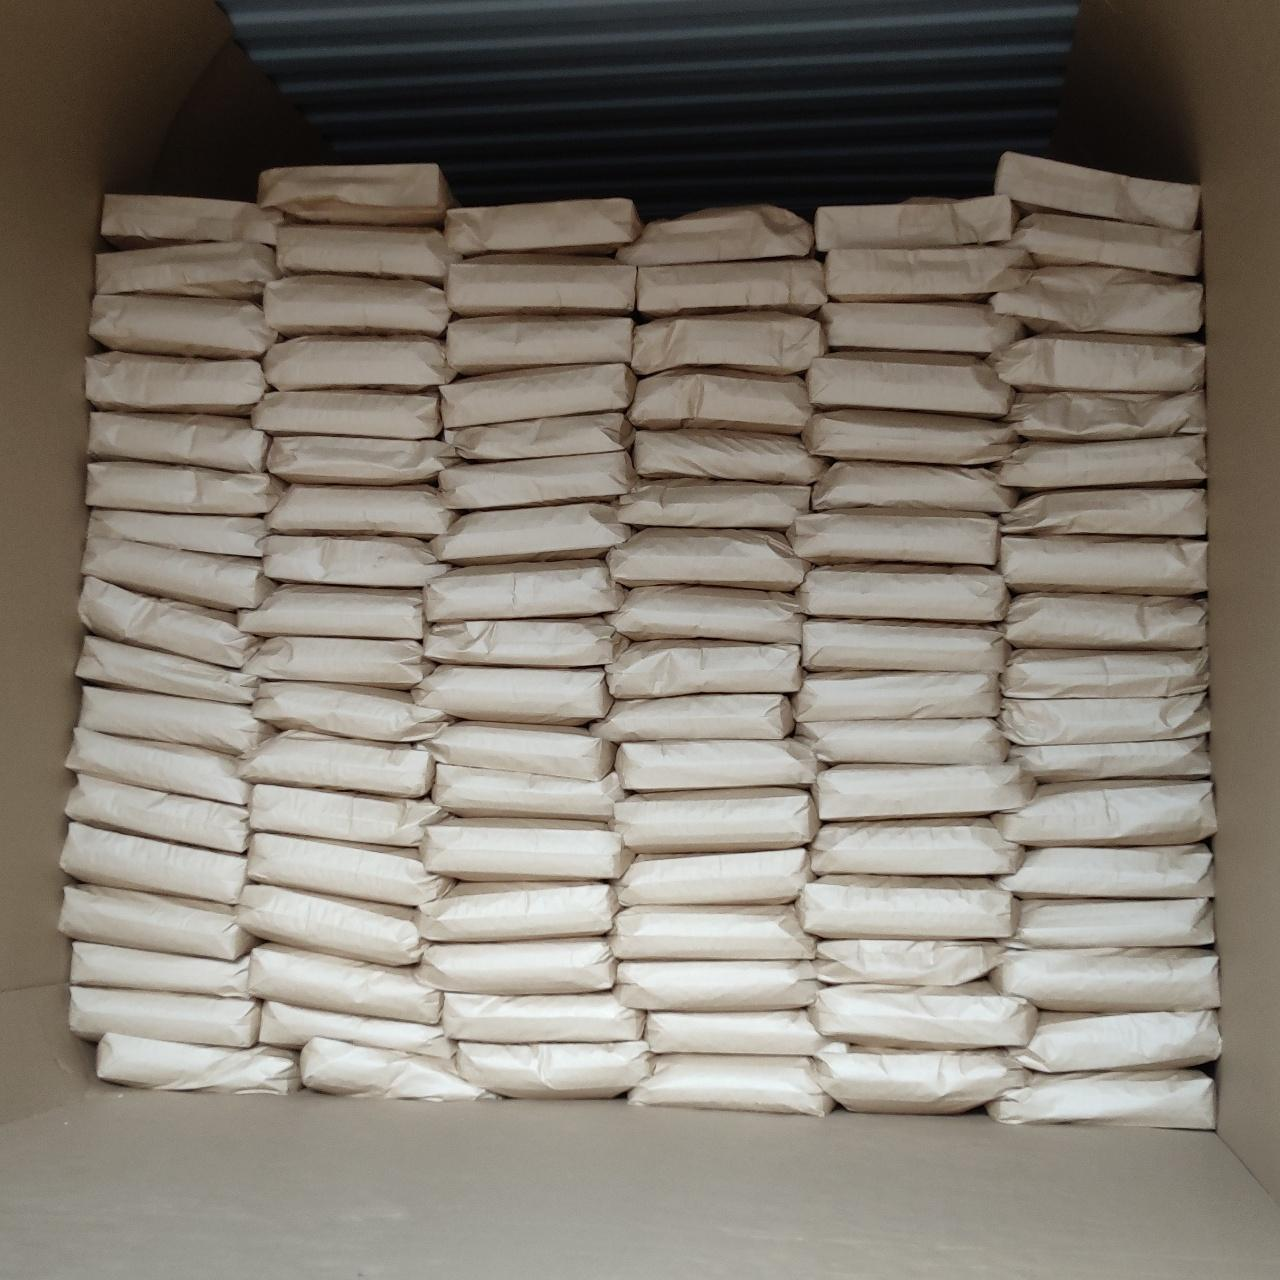sack: (79, 577, 258, 667), (996, 152, 1199, 230), (811, 981, 1037, 1049), (247, 944, 440, 1023), (992, 779, 1216, 847), (247, 833, 452, 907), (61, 822, 246, 903), (815, 1044, 1027, 1114), (60, 885, 254, 960), (237, 885, 420, 965), (990, 948, 1219, 1012), (66, 775, 248, 853), (990, 267, 1201, 335), (67, 727, 248, 804), (797, 874, 1013, 939), (806, 352, 1012, 418), (82, 538, 273, 610), (79, 687, 273, 755), (613, 788, 818, 852), (420, 817, 632, 879), (240, 731, 434, 798), (605, 527, 809, 591), (989, 333, 1204, 393), (987, 1071, 1214, 1128), (1012, 1012, 1220, 1073), (998, 536, 1207, 595), (812, 764, 1035, 821), (631, 311, 824, 375), (629, 1055, 833, 1116), (97, 1033, 300, 1094), (442, 365, 635, 428), (430, 503, 631, 564), (248, 785, 447, 846), (425, 560, 624, 621), (77, 636, 258, 703), (416, 881, 618, 941), (252, 681, 449, 742), (617, 205, 813, 266), (1005, 215, 1201, 275), (802, 409, 1017, 464), (628, 369, 812, 434), (798, 566, 1008, 622), (411, 666, 612, 724), (302, 1039, 495, 1099), (257, 164, 451, 224), (417, 937, 615, 995), (264, 275, 450, 338), (999, 845, 1213, 899), (445, 198, 642, 257), (815, 195, 1019, 251), (440, 451, 635, 510), (811, 821, 1023, 874), (91, 295, 275, 358), (445, 257, 636, 316), (70, 987, 259, 1047), (998, 436, 1206, 490), (86, 350, 266, 413), (606, 640, 801, 697), (999, 693, 1210, 745), (618, 847, 811, 905), (610, 586, 803, 644), (1006, 594, 1207, 649), (819, 302, 1024, 356), (455, 1041, 651, 1097), (88, 411, 268, 472), (802, 620, 1006, 674), (259, 1001, 450, 1058), (423, 722, 614, 779), (636, 259, 826, 316), (787, 513, 998, 565), (277, 225, 458, 285), (812, 462, 1017, 515), (447, 316, 633, 374), (611, 906, 813, 959), (86, 461, 284, 515), (263, 336, 455, 392), (634, 429, 826, 484), (828, 246, 1032, 298), (794, 672, 999, 722), (615, 740, 816, 791), (431, 764, 622, 818), (266, 484, 455, 538), (442, 992, 644, 1042), (96, 241, 275, 298), (237, 585, 423, 639), (425, 617, 624, 667), (617, 961, 818, 1010), (100, 195, 284, 248), (245, 636, 433, 689), (1003, 649, 1208, 697), (72, 942, 250, 998), (1002, 488, 1206, 536), (1014, 899, 1213, 947), (1006, 392, 1205, 440), (264, 536, 448, 587), (618, 481, 810, 530), (592, 694, 794, 741), (796, 719, 1008, 763), (266, 437, 457, 485), (251, 392, 442, 440), (447, 411, 632, 459), (1010, 737, 1210, 781), (817, 939, 999, 985), (89, 510, 267, 556), (645, 1010, 826, 1055)
